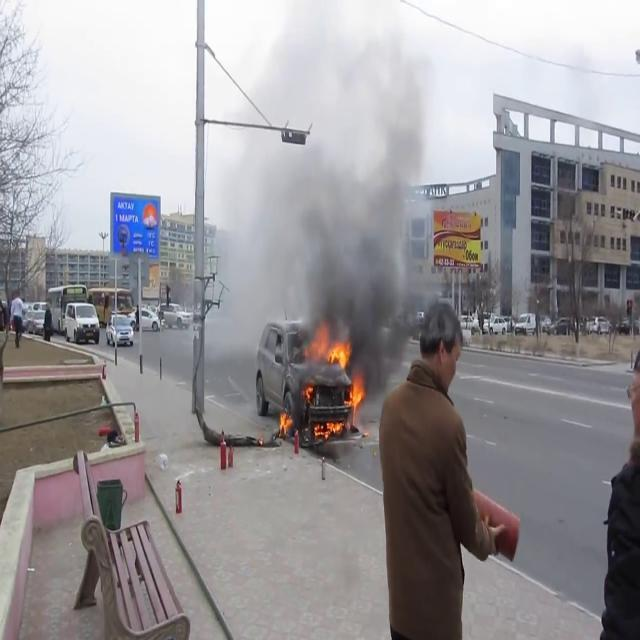Fire: (304, 328, 354, 368), (346, 370, 366, 413), (312, 414, 344, 440), (278, 406, 294, 439)
Smoke: (231, 3, 442, 364)
